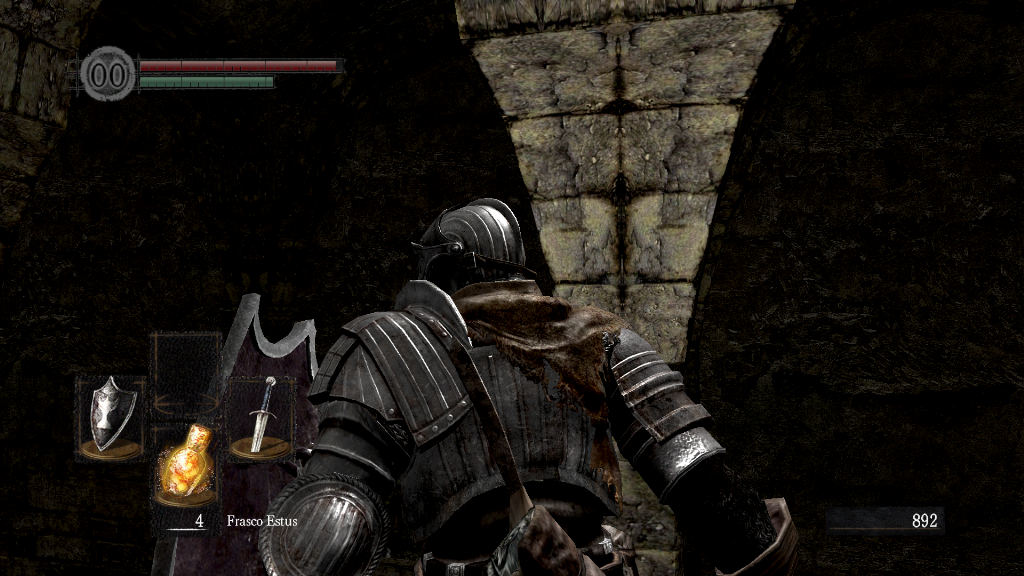health: (138, 58, 343, 71)
humanity: (80, 45, 136, 102)
player: (151, 196, 814, 576)
souls: (825, 506, 945, 536)
stamina: (138, 74, 274, 88)
